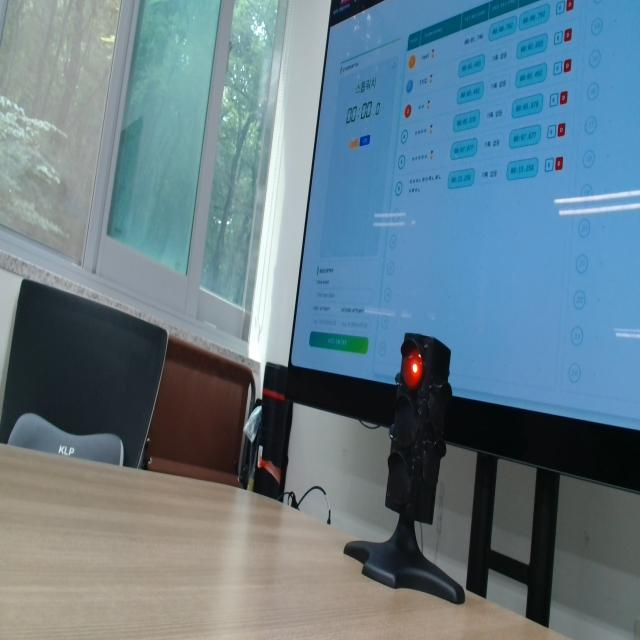red_light: (401, 349, 423, 389)
